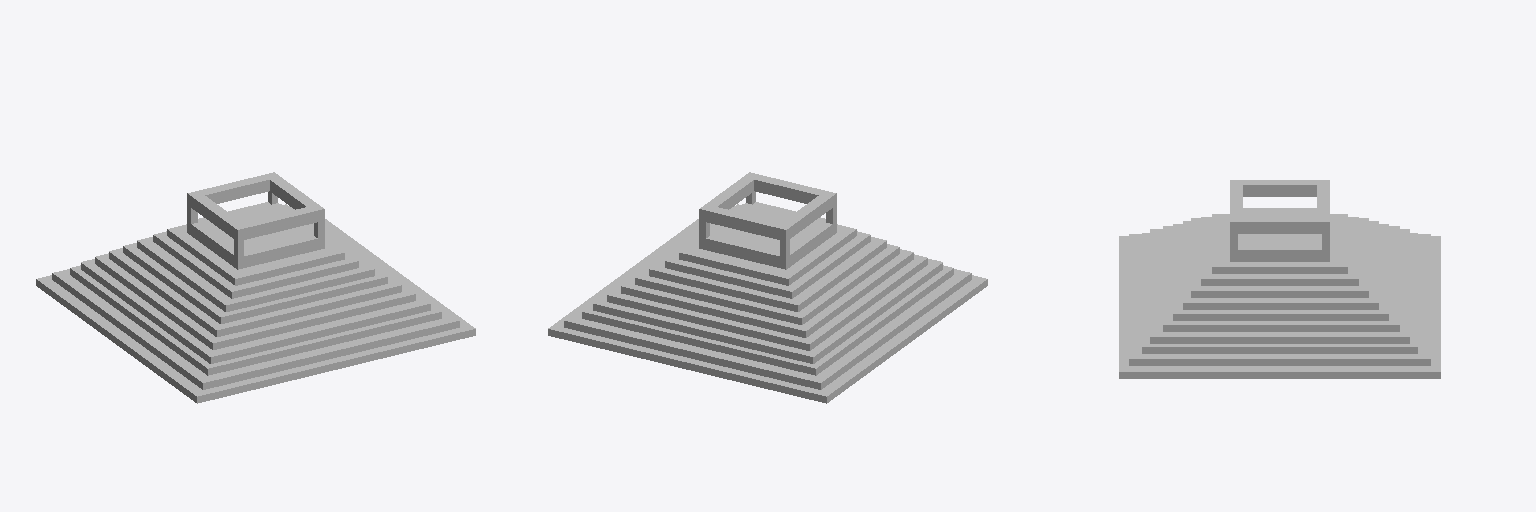
File: Trailer_Tower.obj
The picture shows the model from 3 angles: view 1: azimuth 30°, elevation 25°; view 2: azimuth 150°, elevation 25°; view 3: azimuth 270°, elevation 25°; orthographic projection.
Visible parts, largest first — view 1: object 1; view 2: object 1; view 3: object 1.
Boxes of the visible parts, <box> form: object 1: <box>36,172,475,403</box>; object 1: <box>548,172,987,403</box>; object 1: <box>1119,180,1440,378</box>.
Size of the model in its own units: 12.5 by 4.7 by 12.5.